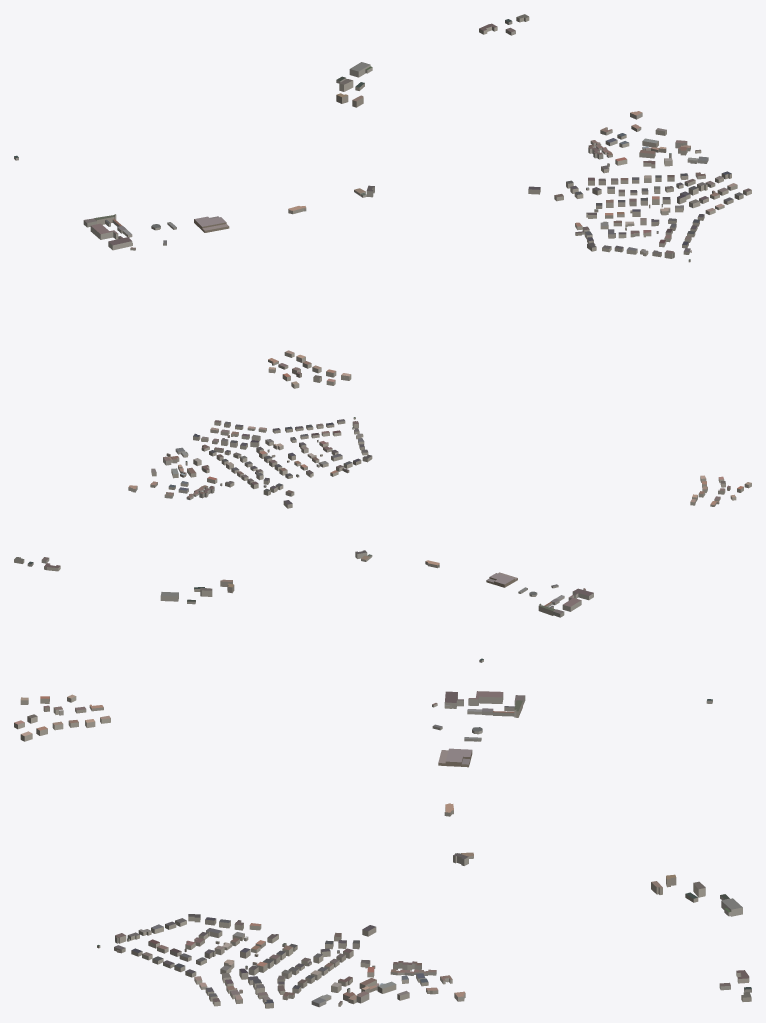
3 views of the same model, one above another, from view 1: azimuth 30°, elevation 25°; view 2: azimuth 150°, elevation 25°; view 3: azimuth 270°, elevation 25° (orthographic). The views are drawn at different scales.
Parts seen in each view (by area): view 1: tuile; view 2: tuile; view 3: tuile.
Part boxes in pixels (bbox=[...]): tuile: bbox=[14, 14, 751, 388]; tuile: bbox=[14, 417, 751, 662]; tuile: bbox=[14, 691, 751, 1008].
Size of the model in its own units: 1006 by 36.48 by 1006.
